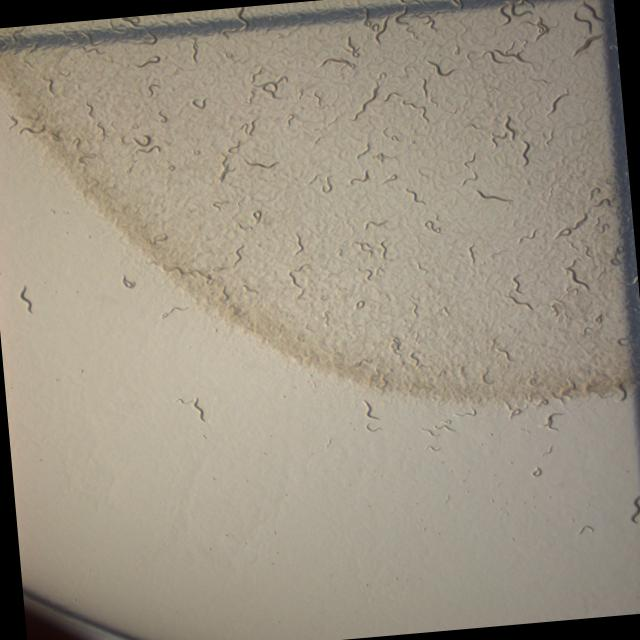filarid: (352, 80, 379, 119), (563, 258, 589, 289), (175, 396, 205, 421), (361, 398, 380, 431), (545, 89, 567, 115), (504, 401, 527, 418), (539, 412, 560, 430), (348, 169, 368, 184), (244, 159, 277, 168), (520, 139, 530, 166), (476, 189, 501, 199), (433, 418, 453, 430), (355, 141, 369, 157), (320, 175, 332, 192), (452, 408, 476, 416), (574, 212, 586, 227), (497, 347, 510, 360), (420, 427, 437, 436), (320, 57, 339, 64), (534, 397, 547, 406), (544, 129, 552, 143), (557, 227, 570, 235), (312, 90, 321, 101), (593, 312, 602, 321), (490, 135, 498, 145), (308, 174, 315, 183), (521, 302, 531, 308), (441, 305, 448, 313), (505, 115, 509, 128), (343, 61, 353, 66), (567, 384, 574, 390), (286, 114, 290, 124), (566, 288, 575, 292), (510, 131, 514, 139), (379, 72, 384, 78), (561, 390, 568, 394), (528, 377, 533, 382), (515, 281, 518, 289)
